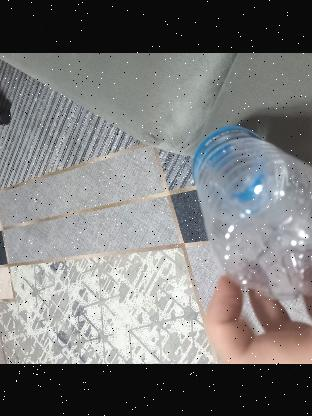Plastic Bottle: (193, 121, 312, 298)
